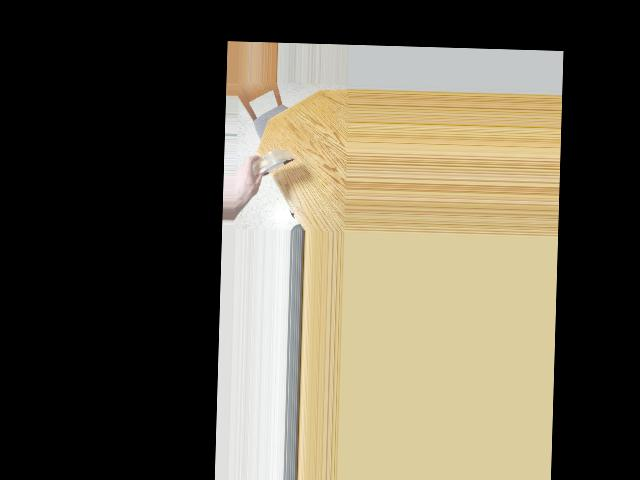cheese: (249, 148, 293, 176)
